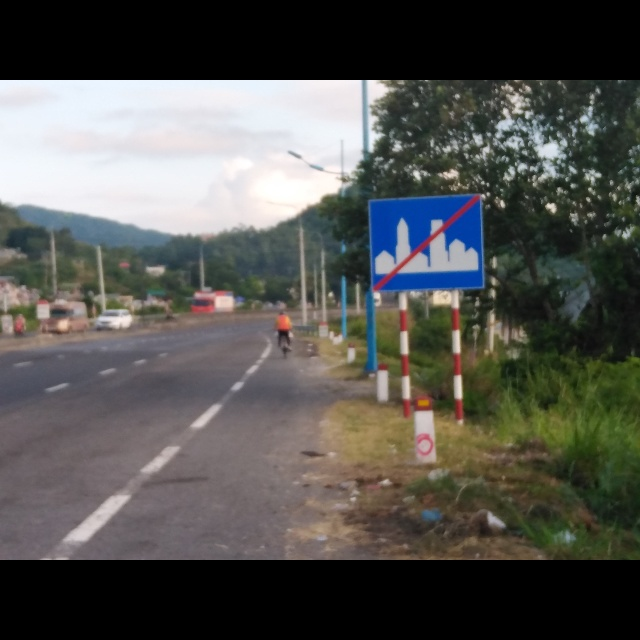Hết khu đông dân cư: (366, 191, 488, 292)
